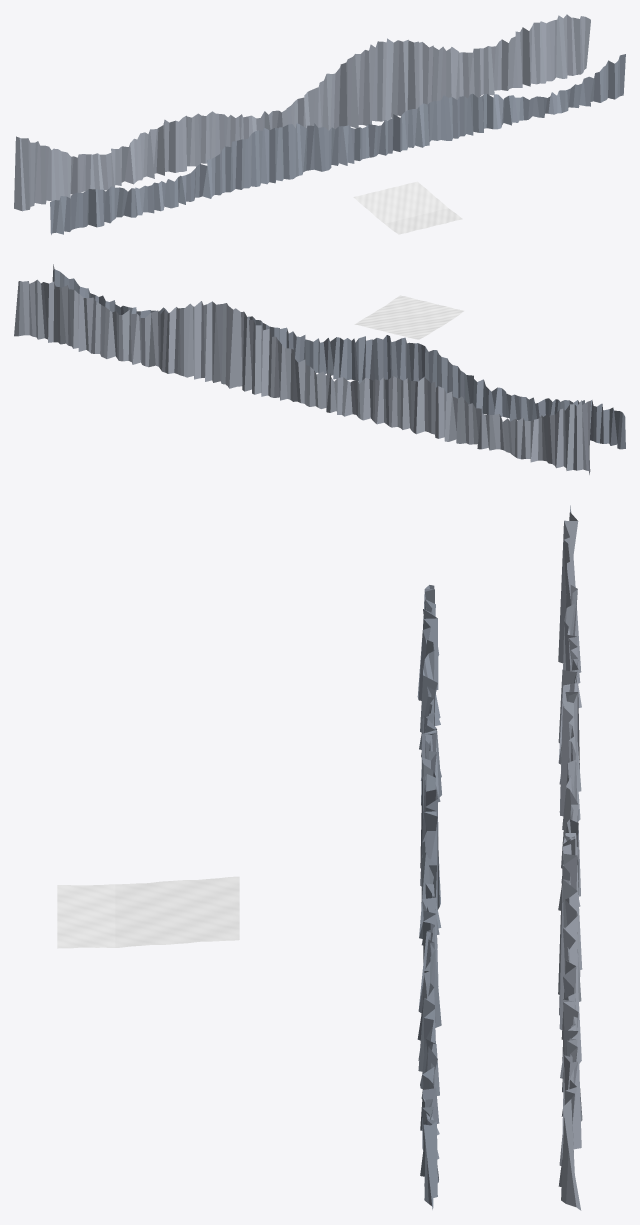
File: world.glb
3 views of the same model, one above another, from view 1: azimuth 30°, elevation 25°; view 2: azimuth 150°, elevation 25°; view 3: azimuth 270°, elevation 25° (orthographic). The views are drawn at different scales.
Visible parts, largest first — view 1: mountain_far, mountain, forest_floor; view 2: mountain_far, mountain, forest_floor; view 3: mountain_far, forest_floor, mountain.
Part boxes in pixels (x1,y1,x2,y2): mountain_far: (14, 14, 590, 211); mountain: (50, 54, 625, 234); forest_floor: (353, 181, 462, 234); mountain_far: (14, 279, 590, 474); mountain: (52, 264, 625, 449); forest_floor: (354, 295, 463, 339); mountain_far: (558, 505, 582, 1210); forest_floor: (57, 876, 239, 948); mountain: (417, 585, 441, 1209).
Size of the model in its own units: 3200 by 430 by 1269.
